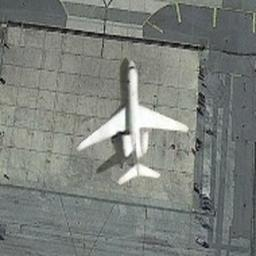Airplane: (75, 56, 189, 185)
